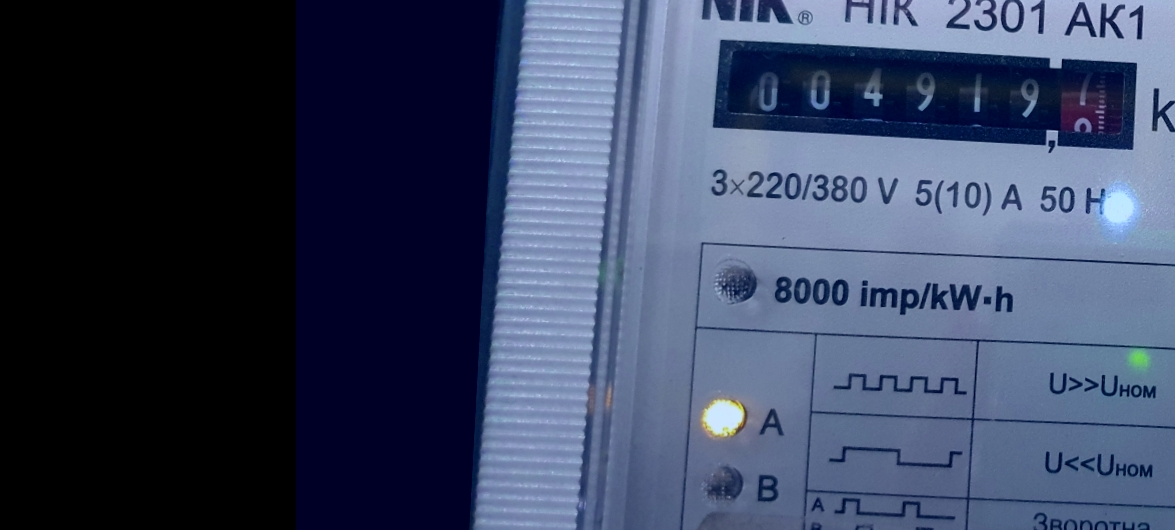0: (807, 65, 835, 111), (755, 67, 782, 112)
1: (969, 68, 987, 114)
4: (860, 63, 886, 107)
7: (1071, 67, 1096, 108)
9: (1017, 73, 1042, 121), (913, 69, 938, 113)
screen: (701, 24, 1156, 168)
